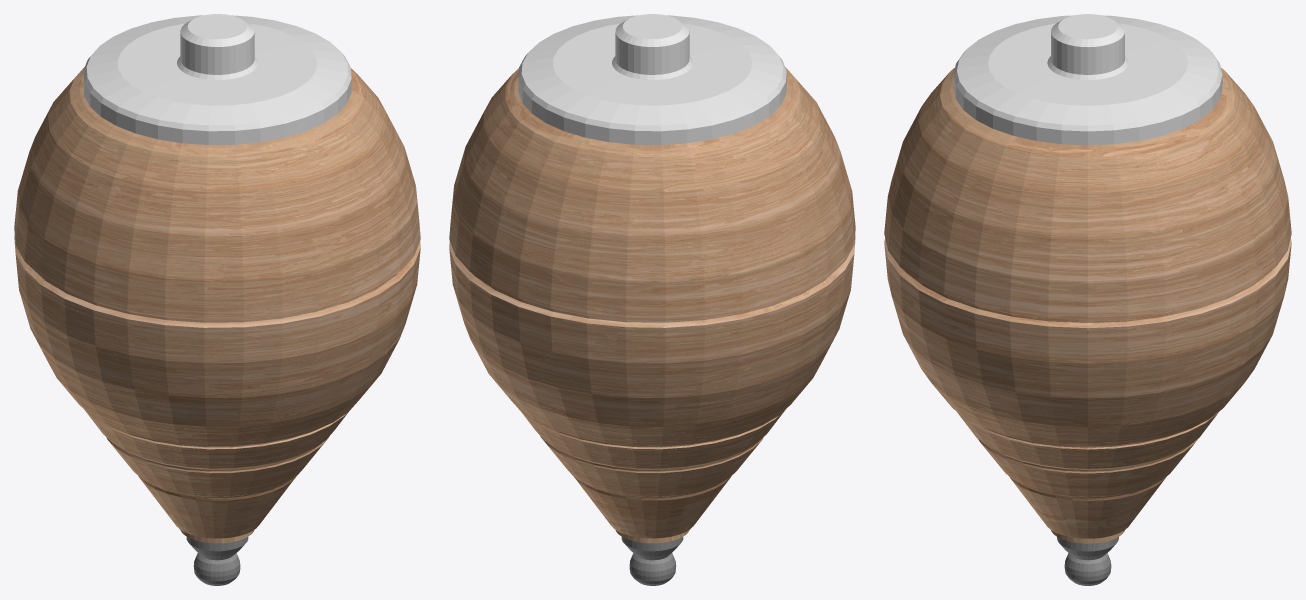
File: Peonza.fbx
3 renders of one model, left to right at view 1: azimuth 30°, elevation 25°; view 2: azimuth 150°, elevation 25°; view 3: azimuth 270°, elevation 25°, orthographic.
Visible parts, largest first — view 1: Peonza; view 2: Peonza; view 3: Peonza.
Part boxes in pixels (x1=…): Peonza: x1=14, y1=14, x2=420, y2=585; Peonza: x1=449, y1=14, x2=855, y2=585; Peonza: x1=884, y1=14, x2=1291, y2=585.
Size of the model in its own units: 540 by 814 by 540.
Materials: 3 (2 with a texture image).
